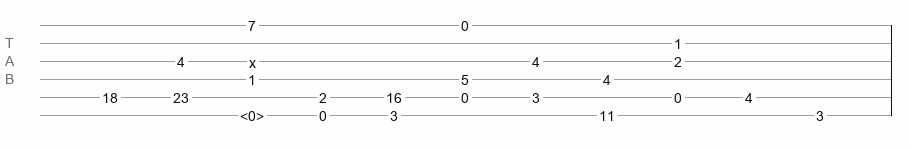0: (319, 108, 327, 118), (461, 18, 469, 28), (461, 90, 469, 100), (674, 90, 682, 100)
1: (248, 72, 256, 82), (674, 36, 682, 46)
11: (599, 108, 615, 118)
16: (386, 90, 402, 100)
18: (102, 90, 118, 100)
2: (319, 90, 327, 100), (674, 54, 682, 64)
23: (173, 90, 189, 100)
3: (390, 108, 398, 118), (532, 90, 540, 100), (816, 108, 824, 118)
4: (177, 54, 185, 64), (532, 54, 540, 64), (603, 72, 611, 82), (745, 90, 753, 100)
5: (461, 72, 469, 82)
7: (248, 18, 256, 28)
harmonic: (240, 108, 264, 118)
x: (249, 55, 256, 63)
